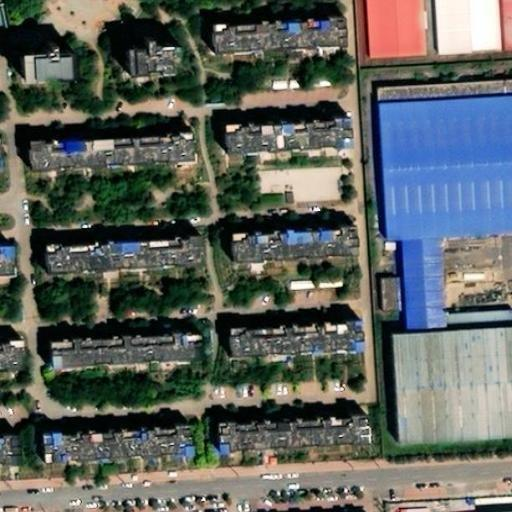building: (383, 102, 512, 260), (398, 346, 512, 468), (31, 138, 189, 176), (47, 243, 202, 281), (51, 338, 205, 376), (49, 429, 189, 464), (233, 229, 361, 266), (233, 322, 365, 355), (228, 119, 347, 155), (218, 22, 337, 56), (405, 258, 446, 351), (231, 418, 358, 446), (382, 496, 512, 512), (26, 55, 81, 88), (129, 43, 181, 74), (371, 272, 396, 310), (0, 345, 28, 374), (0, 439, 24, 467), (0, 250, 15, 281), (285, 274, 313, 289)
